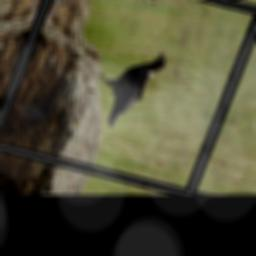Crow: (81, 40, 170, 136)
